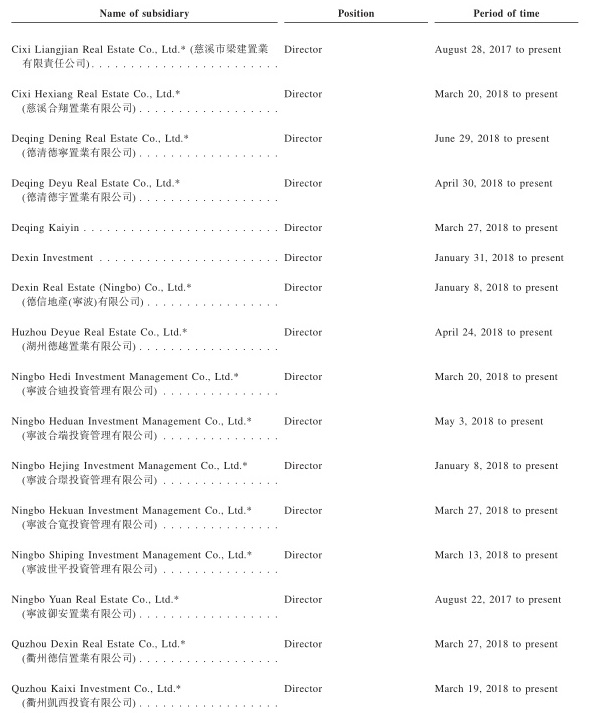column: (10, 1, 278, 713), (433, 1, 563, 713), (283, 1, 324, 713), (335, 1, 376, 713)
row: (1, 606, 591, 621), (1, 190, 591, 204), (1, 561, 591, 575), (1, 6, 590, 20), (1, 43, 590, 57), (1, 414, 591, 427), (1, 549, 591, 562), (1, 651, 591, 664), (1, 696, 591, 709), (1, 87, 590, 100), (1, 132, 590, 145), (1, 177, 590, 190), (1, 58, 591, 70), (1, 147, 591, 159), (1, 282, 591, 294), (1, 340, 591, 352), (1, 371, 591, 383), (1, 384, 591, 396), (1, 430, 591, 442), (1, 518, 591, 530), (1, 594, 591, 606), (1, 638, 591, 650), (1, 683, 591, 695), (1, 252, 590, 264), (1, 296, 590, 308), (1, 102, 591, 113), (1, 327, 591, 338), (1, 460, 591, 471), (1, 474, 591, 485), (1, 223, 591, 233), (1, 505, 591, 515)
